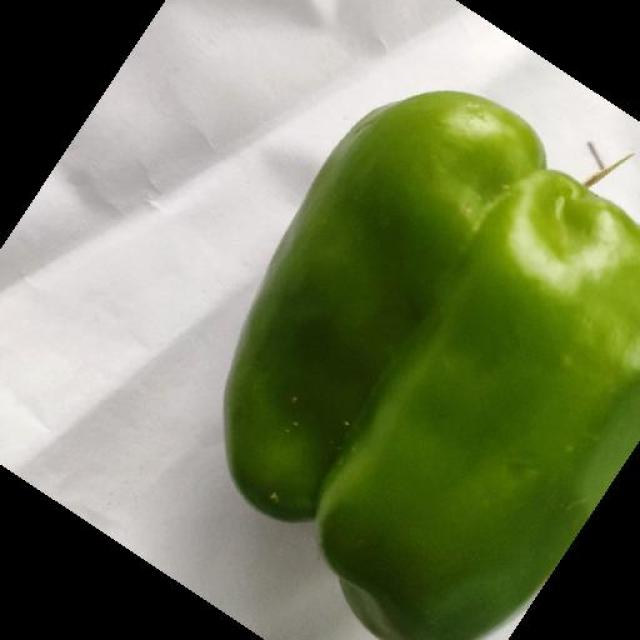Fresh_Capsicum: (331, 76, 640, 640)
